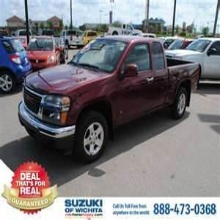no damage: (17, 35, 201, 165), (1, 34, 31, 93), (27, 35, 66, 69)
